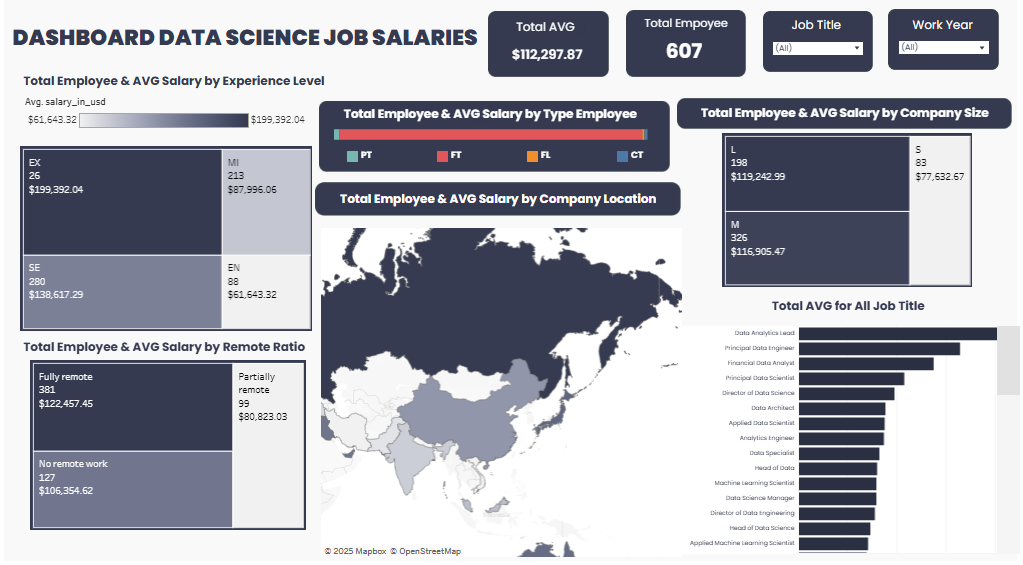

Layout of this report page (visuals, bound fields, positions):
{"tool":"tableau","page":{"name":"Dashboard 1","canvas":[1366,768],"ordinal":0},"visuals":[{"type":"image","param":"Image/Judul (1).png","box":[1187,24,147,96]},{"type":"image","param":"Image/Judul (1).png","box":[837,25,177,89]},{"type":"image","param":"Image/Judul (1).png","box":[653,26,161,107]},{"type":"image","param":"Image/Judul (1).png","box":[1020,27,146,96]},{"type":"text","box":[832,28,171,31]},{"type":"text","box":[19,29,647,67]},{"type":"text","box":[1038,29,106,31]},{"type":"text","box":[1206,29,107,31]},{"type":"text","box":[677,32,106,30]},{"type":"worksheet","title":"total employee","mark":"Automatic","box":[861,58,125,46]},{"type":"worksheet","title":"total avg","mark":"Automatic","box":[624,65,165,74]},{"type":"filter","title":"total avg","param":"[federated.1gvnj8b1yr3gj717mic9a14t9z3h].[none:work_year:nk]","box":[1199,65,124,45]},{"type":"filter","title":"total avg","param":"[federated.1gvnj8b1yr3gj717mic9a14t9z3h].[none:job_title:nk]","box":[1031,66,125,38]},{"type":"text","box":[19,103,431,31]},{"type":"legend","title":"experinece level","param":"[federated.1gvnj8b1yr3gj717mic9a14t9z3h].[avg:salary_in_usd:qk]","box":[35.6,138.8,378.5,62.8]},{"type":"image","param":"Image/Judul (3).png","box":[905,139,447,58]},{"type":"text","box":[921,146,416,30]},{"type":"image","param":"Image/Judul (2).png","box":[428,147,468,118]},{"type":"text","box":[445,148,423,30]},{"type":"worksheet","title":"type employee","mark":"Automatic","cols":["no"],"box":[448,181,439,31]},{"type":"worksheet","title":"company size","mark":"Automatic","box":[965,189,354,207]},{"type":"worksheet","title":"experinece level","mark":"Automatic","box":[28.8,205.7,389.6,247.2]},{"type":"legend","title":"type employee","param":"[federated.1gvnj8b1yr3gj717mic9a14t9z3h].[none:employment_type:nk]","box":[390,210,610,35]},{"type":"image","param":"Image/Judul (3).png","box":[423,250,487,64]},{"type":"text","box":[436,261,462,30]},{"type":"worksheet","title":"company location","mark":"Multipolygon","box":[431,316,481,439]},{"type":"text","box":[939,404,389,31]},{"type":"worksheet","title":"avg for job title","mark":"Automatic","rows":["job_title"],"cols":["salary_in_usd"],"box":[907,446,456,304]},{"type":"text","box":[27.1,458,388.7,30.4]},{"type":"worksheet","title":"remote ratio (-)","mark":"Automatic","box":[43.2,492.4,367.5,263.4]}]}

Visuals, with their boxes in screenshot pixels (x1, y1, x2, y2), scaled from the page's 1366x768 canvas onto the 1023x565 screenshot:
image: pyautogui.locateOnScreen(889, 18, 999, 88)
image: pyautogui.locateOnScreen(627, 18, 759, 84)
image: pyautogui.locateOnScreen(489, 19, 610, 98)
image: pyautogui.locateOnScreen(764, 20, 873, 90)
text: pyautogui.locateOnScreen(623, 21, 751, 43)
text: pyautogui.locateOnScreen(14, 21, 499, 71)
text: pyautogui.locateOnScreen(777, 21, 857, 44)
text: pyautogui.locateOnScreen(903, 21, 983, 44)
text: pyautogui.locateOnScreen(507, 24, 586, 46)
"total employee" worksheet: pyautogui.locateOnScreen(645, 43, 738, 77)
"total avg" worksheet: pyautogui.locateOnScreen(467, 48, 591, 102)
"total avg" filter: pyautogui.locateOnScreen(898, 48, 991, 81)
"total avg" filter: pyautogui.locateOnScreen(772, 49, 866, 77)
text: pyautogui.locateOnScreen(14, 76, 337, 99)
"experinece level" legend: pyautogui.locateOnScreen(27, 102, 310, 148)
image: pyautogui.locateOnScreen(678, 102, 1013, 145)
text: pyautogui.locateOnScreen(690, 107, 1001, 129)
image: pyautogui.locateOnScreen(321, 108, 671, 195)
text: pyautogui.locateOnScreen(333, 109, 650, 131)
"type employee" worksheet: pyautogui.locateOnScreen(336, 133, 664, 156)
"company size" worksheet: pyautogui.locateOnScreen(723, 139, 988, 291)
"experinece level" worksheet: pyautogui.locateOnScreen(22, 151, 313, 333)
"type employee" legend: pyautogui.locateOnScreen(292, 154, 749, 180)
image: pyautogui.locateOnScreen(317, 184, 682, 231)
text: pyautogui.locateOnScreen(327, 192, 673, 214)
"company location" worksheet (Multipolygon marks): pyautogui.locateOnScreen(323, 232, 683, 555)
text: pyautogui.locateOnScreen(703, 297, 995, 320)
"avg for job title" worksheet: pyautogui.locateOnScreen(679, 328, 1021, 552)
text: pyautogui.locateOnScreen(20, 337, 311, 359)
"remote ratio (-)" worksheet: pyautogui.locateOnScreen(32, 362, 308, 556)
